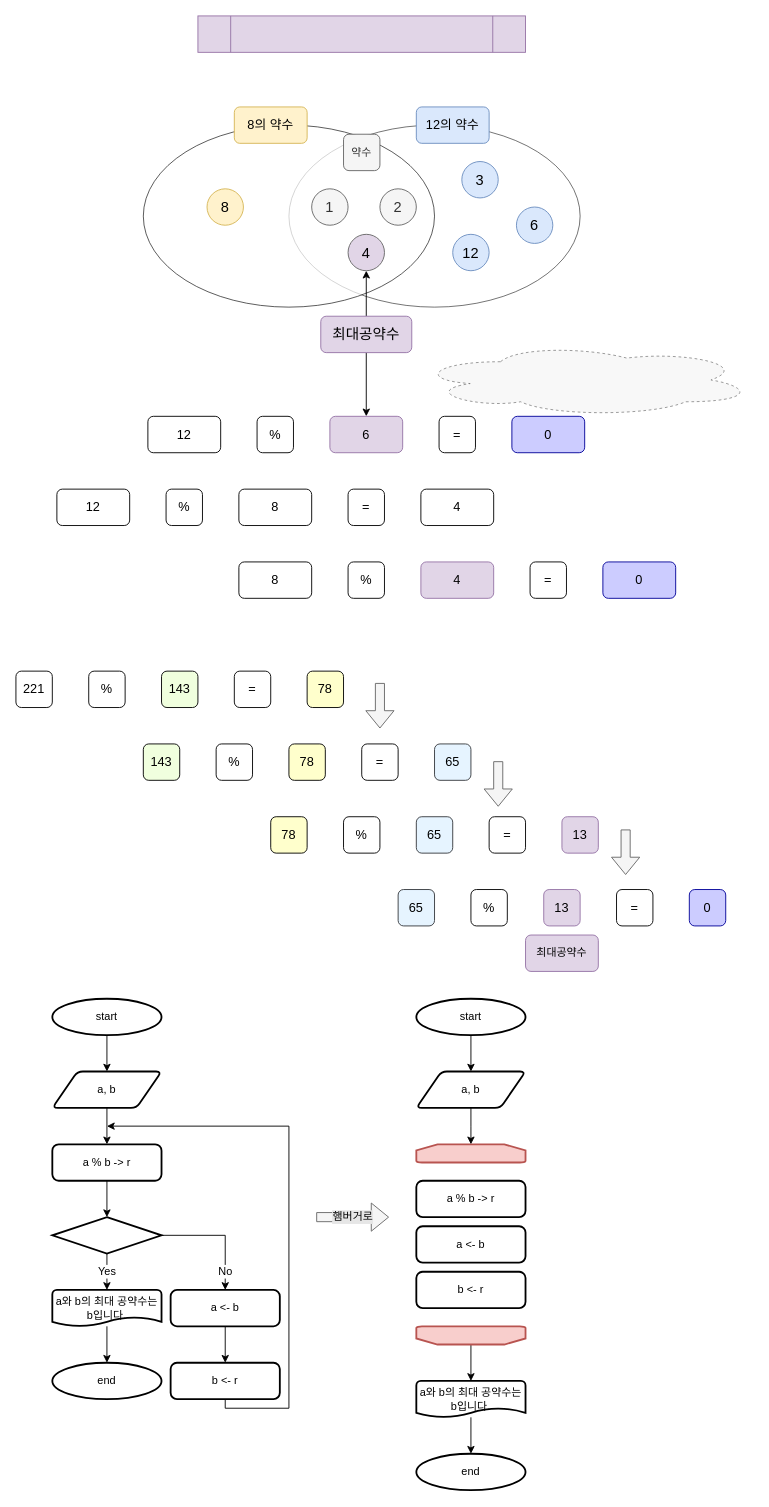
The diagram is 769 pixels wide and 1507 high, and some of its shapes have lost their labels. The shapes that lost their labels are listed below. From the top down, each one's box as (x1, y1, x2, y2) in pixels, then its label:
(197, 15, 526, 52): Euclidean Algorithms
(415, 343, 753, 416): 나머지가 없이 딱 나누어 떨어지면 그 나누는데 사용된 수가 바로 최대 공약수이다.
(51, 1216, 162, 1254): r = 0
(415, 1325, 526, 1345): r ! = 0
